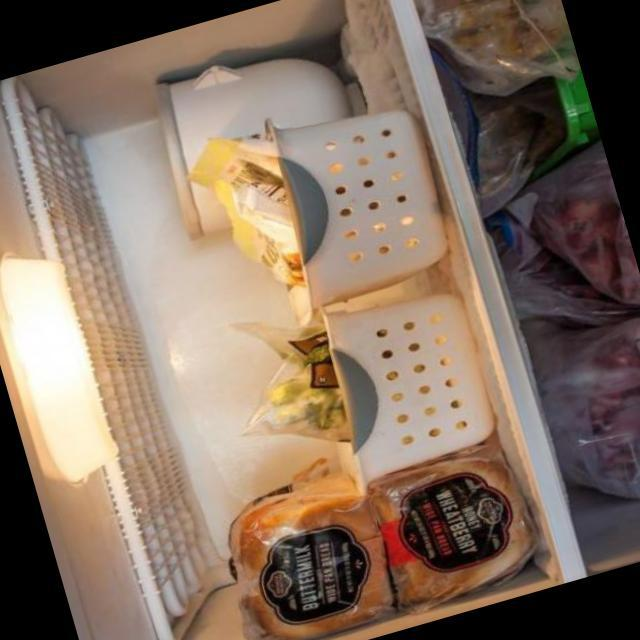bread: (361, 444, 536, 613), (217, 486, 399, 640)
